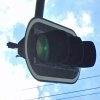traffic lights: (31, 32, 97, 68)
